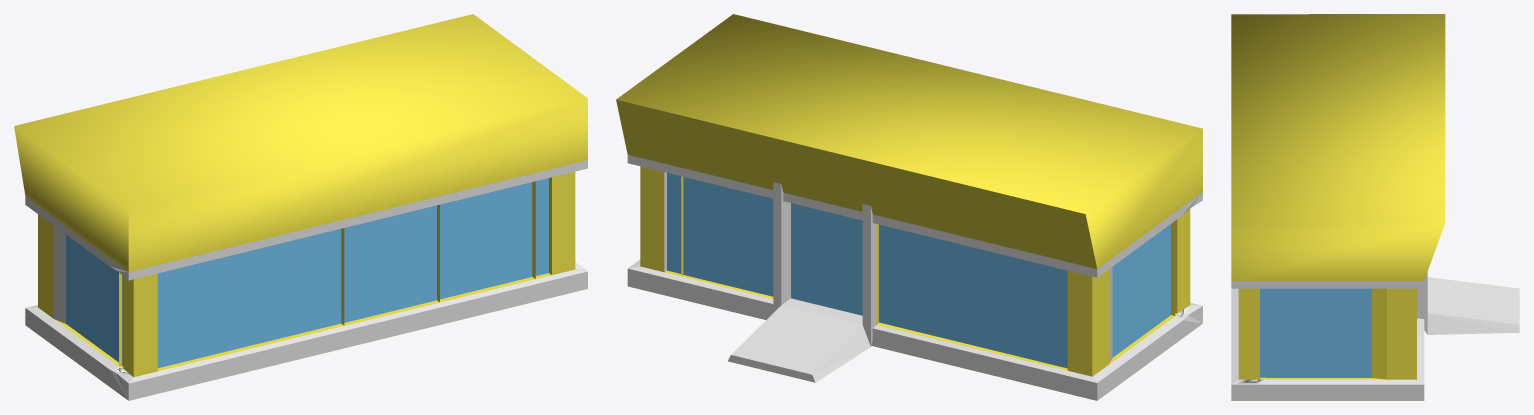
File: Shop5x2x2Yellow.fbx
3 renders of one model, left to right at view 1: azimuth 30°, elevation 25°; view 2: azimuth 150°, elevation 25°; view 3: azimuth 270°, elevation 25°, orthographic. The views are drawn at different scales.
Visible parts, largest first — view 1: Shop.002; view 2: Shop.002; view 3: Shop.002.
Boxes of the visible parts, left/top/right/bottom form: Shop.002: left=14, top=14, right=587, bottom=400; Shop.002: left=616, top=14, right=1202, bottom=400; Shop.002: left=1231, top=14, right=1519, bottom=400.
Size of the model in its own units: 4.99 by 1.98 by 2.91.
1 material, 1 textured.
